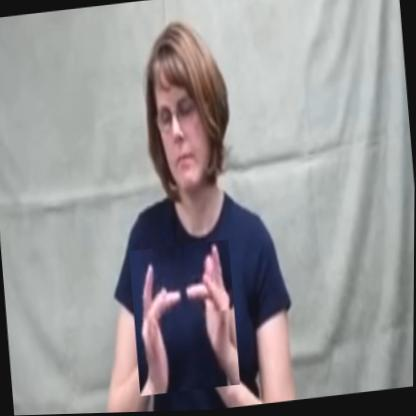Internet: (129, 240, 242, 397)
